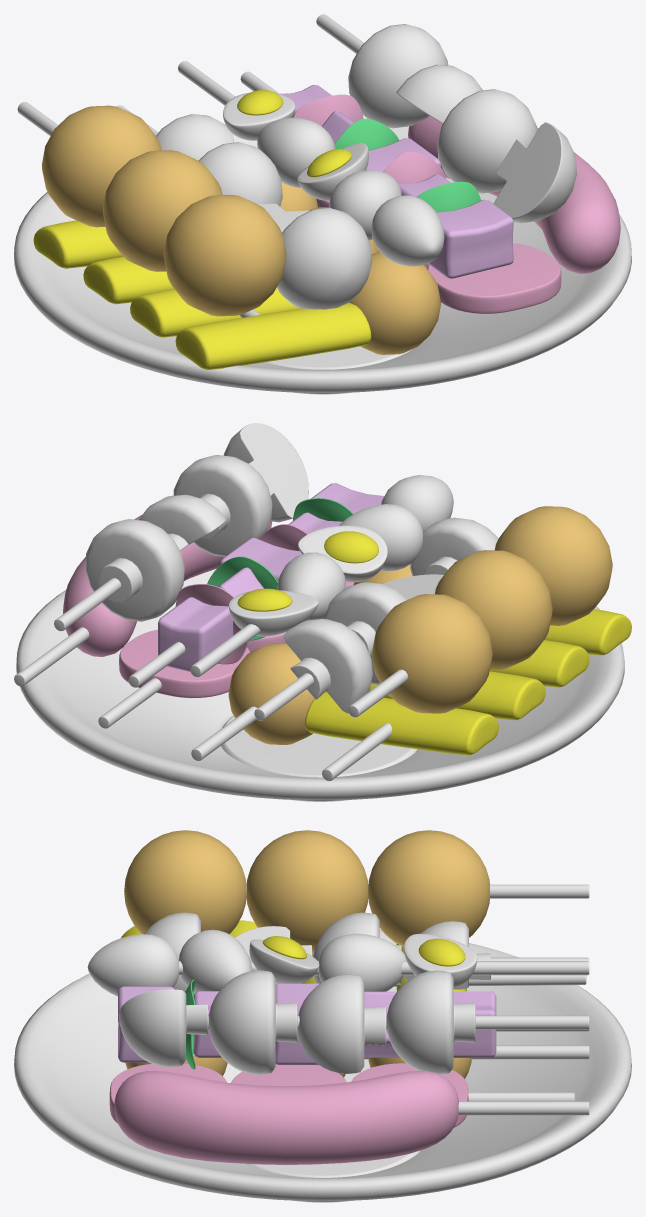
File: DGLXX_barbecue.fbx
3 views of the same model, one above another, from view 1: azimuth 30°, elevation 25°; view 2: azimuth 150°, elevation 25°; view 3: azimuth 270°, elevation 25° (orthographic).
Parts seen in each view (by area): view 1: polySurface122, group8_4, group7_8, group8_6, group7_6, group6_7, group6_5, group7_1, group4_5, group6_6, group4_2, group8_3 (+28 smaller); view 2: polySurface122, group8_6, group7_8, group8_4, group4_5, group7_7, group6_5, group4_4, group7_9, polySurface118, group4_2, group7_1 (+33 smaller); view 3: polySurface122, group7_1, group8_6, group7_8, group8_4, group6_5, group4_5, group5_2, group4_2, group7_2, group8_7, group6_1 (+26 smaller).
Part boxes in pixels (bbox=[...]): polySurface122: bbox=[14, 126, 631, 392]; group8_4: bbox=[163, 195, 286, 316]; group7_8: bbox=[102, 150, 222, 271]; group8_6: bbox=[42, 105, 161, 227]; group7_6: bbox=[175, 302, 371, 369]; group6_7: bbox=[277, 207, 371, 309]; group6_5: bbox=[437, 89, 537, 193]; group7_1: bbox=[408, 116, 620, 273]; group4_5: bbox=[348, 24, 448, 128]; group6_6: bbox=[348, 252, 440, 354]; group4_2: bbox=[493, 122, 576, 223]; group8_3: bbox=[427, 243, 561, 313]; polySurface122: bbox=[16, 569, 624, 800]; group8_6: bbox=[372, 594, 492, 713]; group7_8: bbox=[435, 550, 552, 669]; group8_4: bbox=[495, 506, 612, 625]; group4_5: bbox=[85, 519, 184, 621]; group7_7: bbox=[305, 691, 498, 755]; group6_5: bbox=[173, 455, 272, 556]; group4_4: bbox=[283, 619, 372, 713]; group7_9: bbox=[228, 643, 314, 744]; polySurface118: bbox=[221, 715, 417, 801]; group4_2: bbox=[223, 423, 308, 522]; group7_1: bbox=[63, 514, 271, 656]; polySurface122: bbox=[14, 929, 631, 1201]; group7_1: bbox=[114, 1071, 459, 1164]; group8_6: bbox=[368, 830, 489, 947]; group7_8: bbox=[246, 830, 368, 952]; group8_4: bbox=[124, 830, 246, 934]; group6_5: bbox=[208, 970, 297, 1074]; group4_5: bbox=[386, 970, 475, 1074]; group5_2: bbox=[297, 974, 386, 1073]; group4_2: bbox=[118, 989, 207, 1067]; group7_2: bbox=[87, 934, 178, 996]; group8_7: bbox=[318, 933, 406, 991]; group6_1: bbox=[178, 929, 252, 992].
Bounding box in the file's own units: 451 × 201 × 451.
